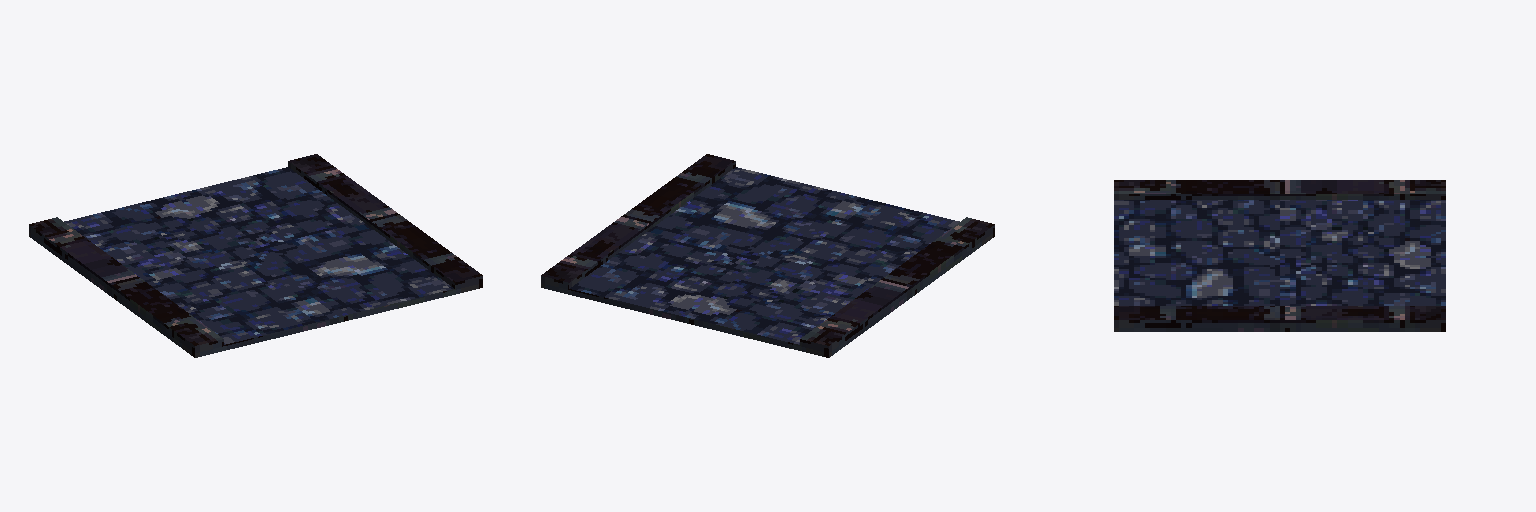
3 views of the same model, side by side, from view 1: azimuth 30°, elevation 25°; view 2: azimuth 150°, elevation 25°; view 3: azimuth 270°, elevation 25° (orthographic).
Parts seen in each view (by area): view 1: mergedBlocks; view 2: mergedBlocks; view 3: mergedBlocks.
Boxes of the visible parts, x1=… form: mergedBlocks: x1=29, y1=154, x2=482, y2=357; mergedBlocks: x1=541, y1=154, x2=994, y2=357; mergedBlocks: x1=1114, y1=180, x2=1445, y2=331.
Bounding box in the file's own units: 1 × 0.04 × 1.
2 materials, 2 textured.